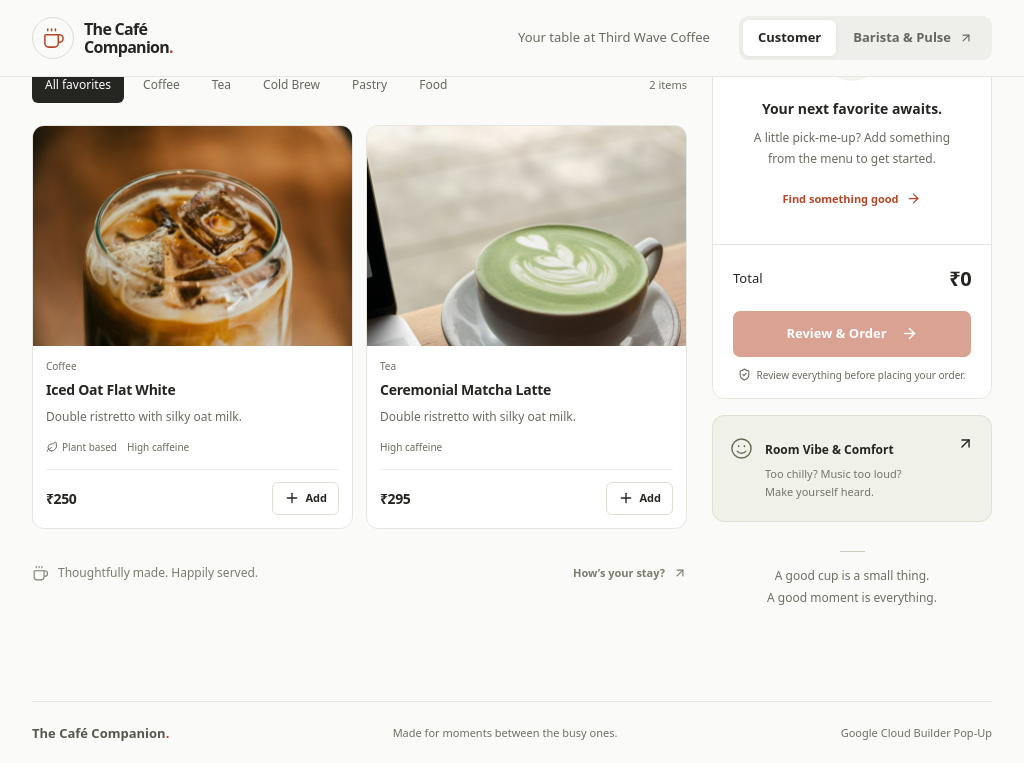
Scenario: Guest ordering › increments matching items and removes the final quantity
This screenshot has width=1024, height=763.
(page scrolled)
Check: the button "Iced Oat Flat White" is shown, box [46,380,339,400]
Step 1. Click the button "Add" in the row of "₹250" → click(306, 498), box [272,482,339,515]
(page scrolled)
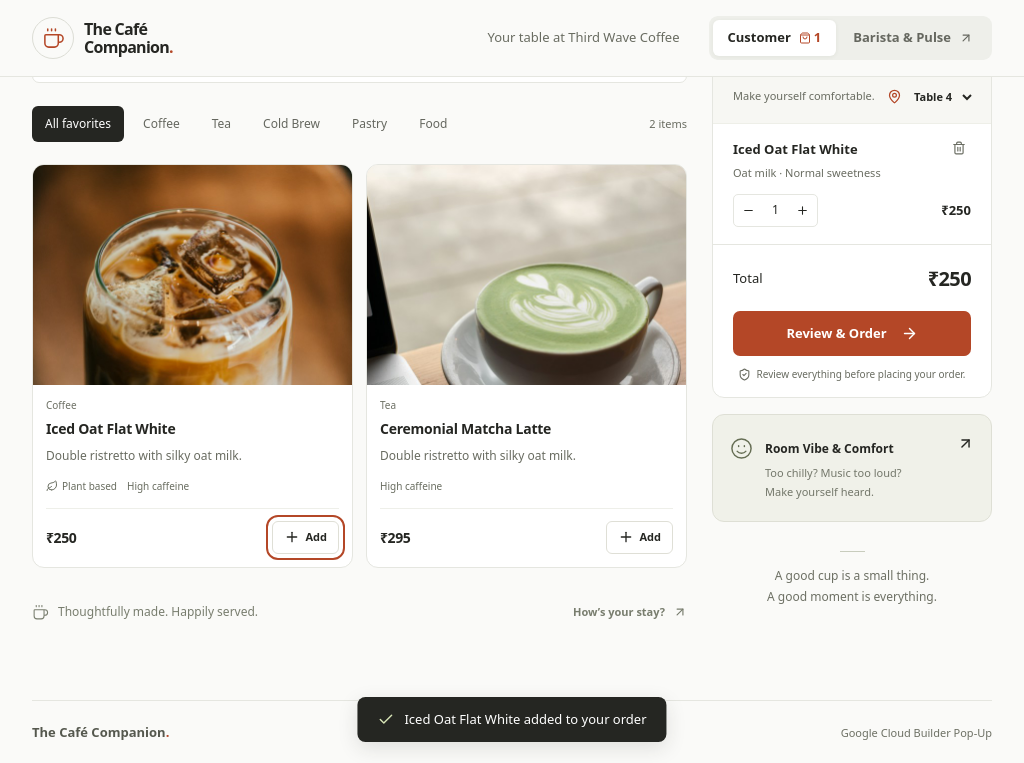
Step 2. Click the button "Add" below "Plant based" → click(306, 537), box [272,521,339,554]
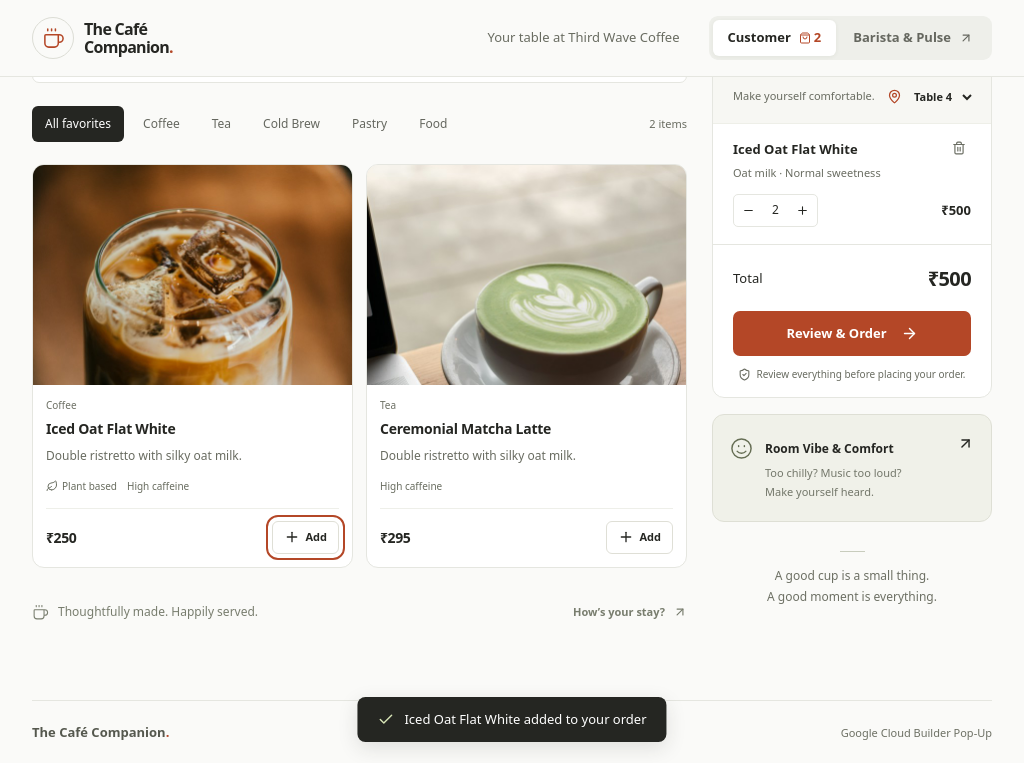
Check: the 1st text "2 items" is shown, box [933,32,971,49]
Check: the text "₹500" is shown 2 times, box [941,200,971,220]; [928,263,971,293]
Step 3. Click the button named "Decrease Iced Oat Flat White quantity" → click(748, 210), box [736,196,761,223]
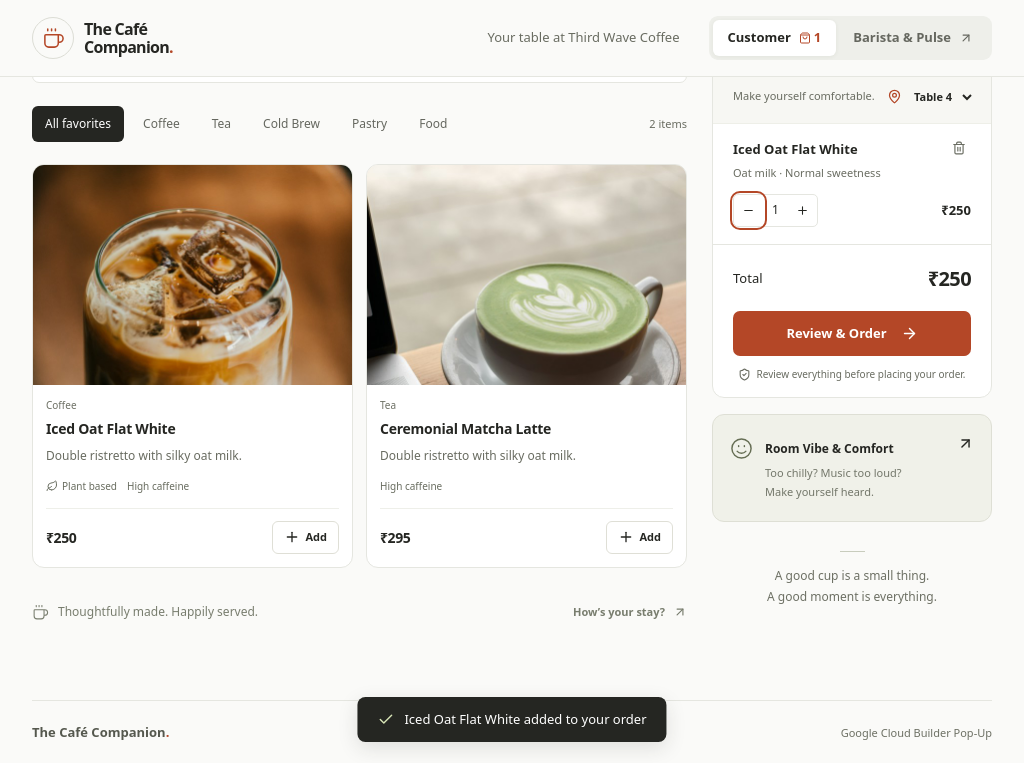
Step 4. Click the button named "Decrease Iced Oat Flat White quantity" → click(748, 210), box [736,196,761,223]
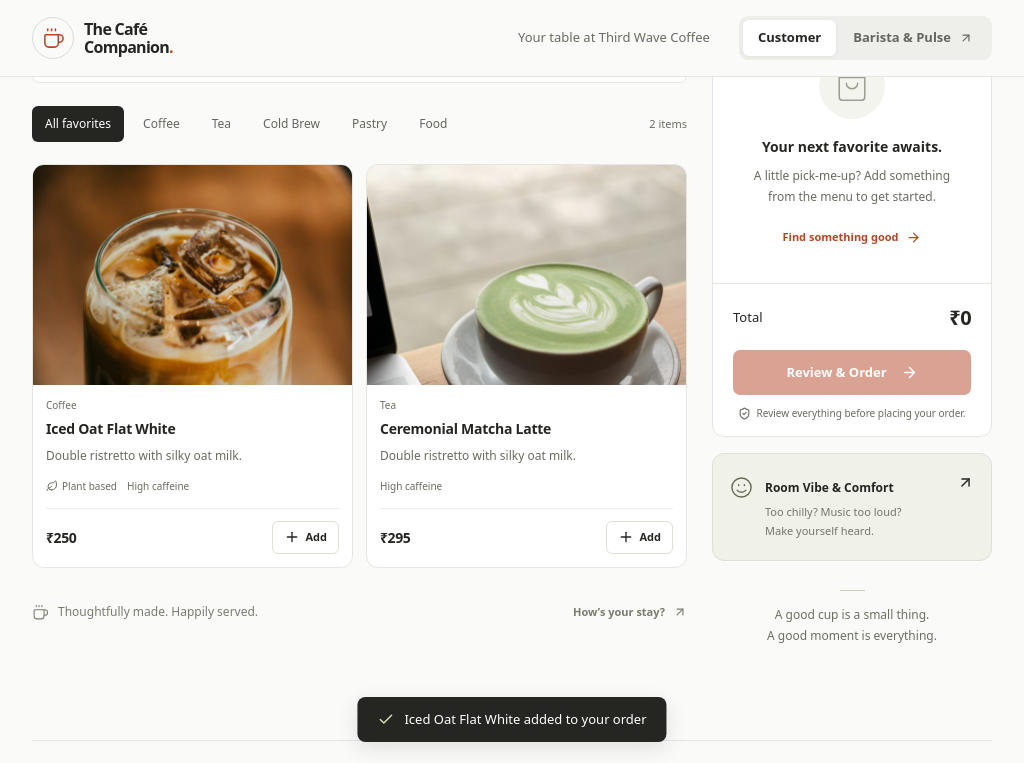
Check: the heading "Your next favorite awaits." is shown, box [762,137,942,156]
